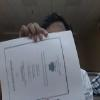notebook: (0, 29, 86, 99)
